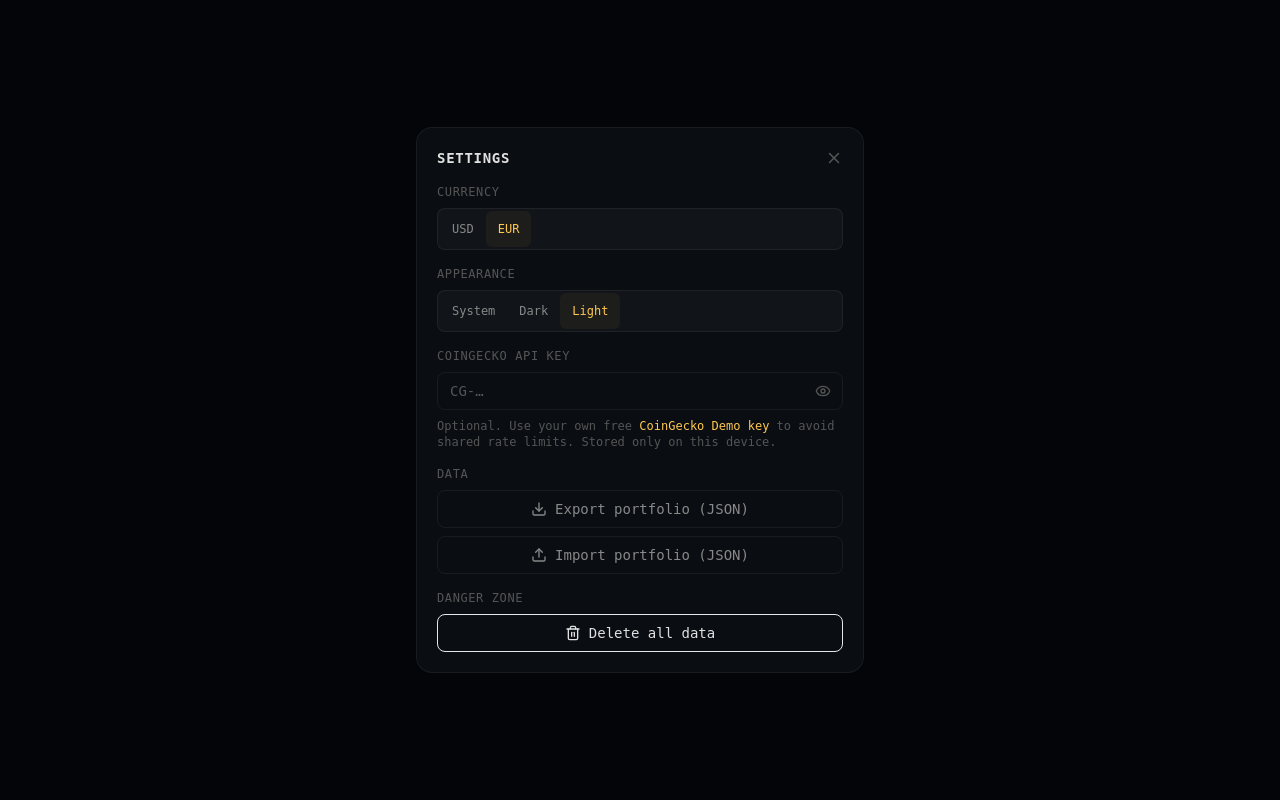
Scenario: SettingsModal — delete all config › reveals a confirmation naming the holding count
Click the button "Delete all data": (640, 633) [437, 614, 843, 652]
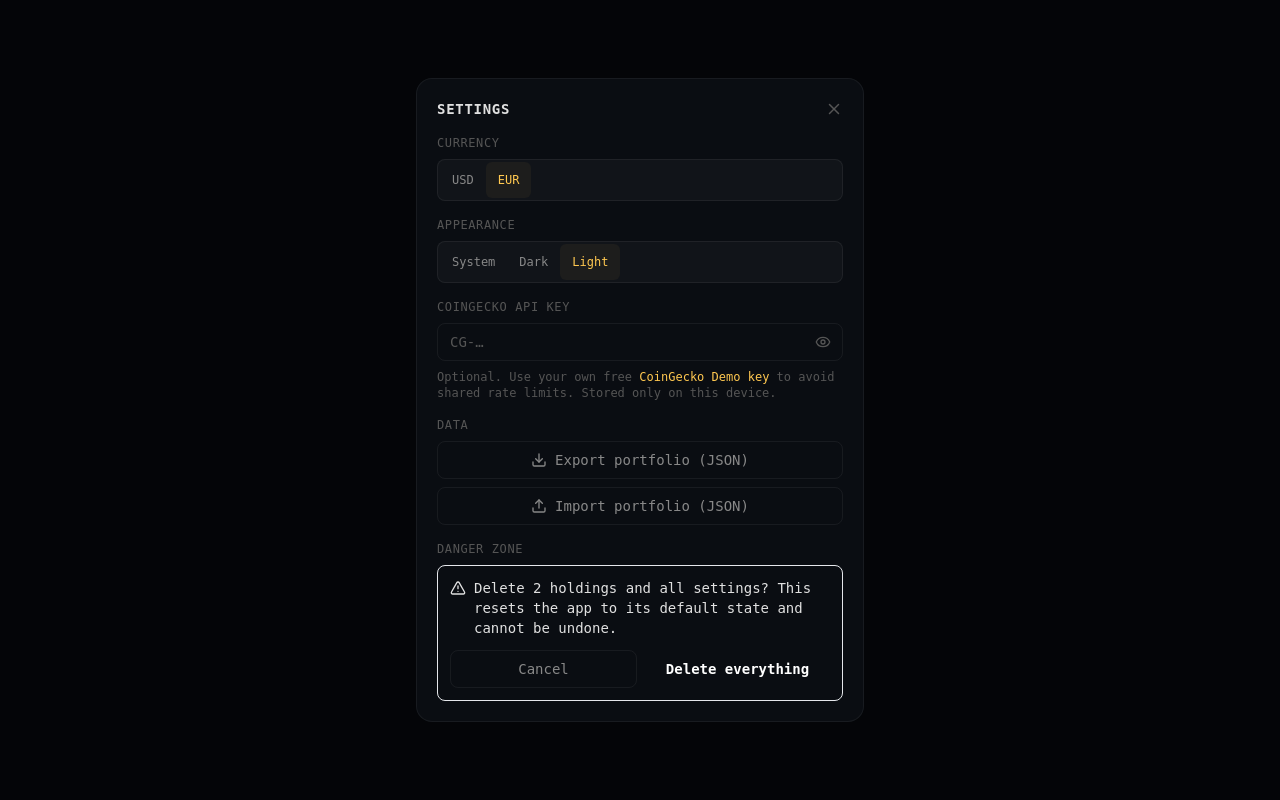
Check: the text "2 holdings" is shown, box [474, 580, 811, 636]
Check: the button "Delete everything" is shown, box [645, 650, 830, 688]
